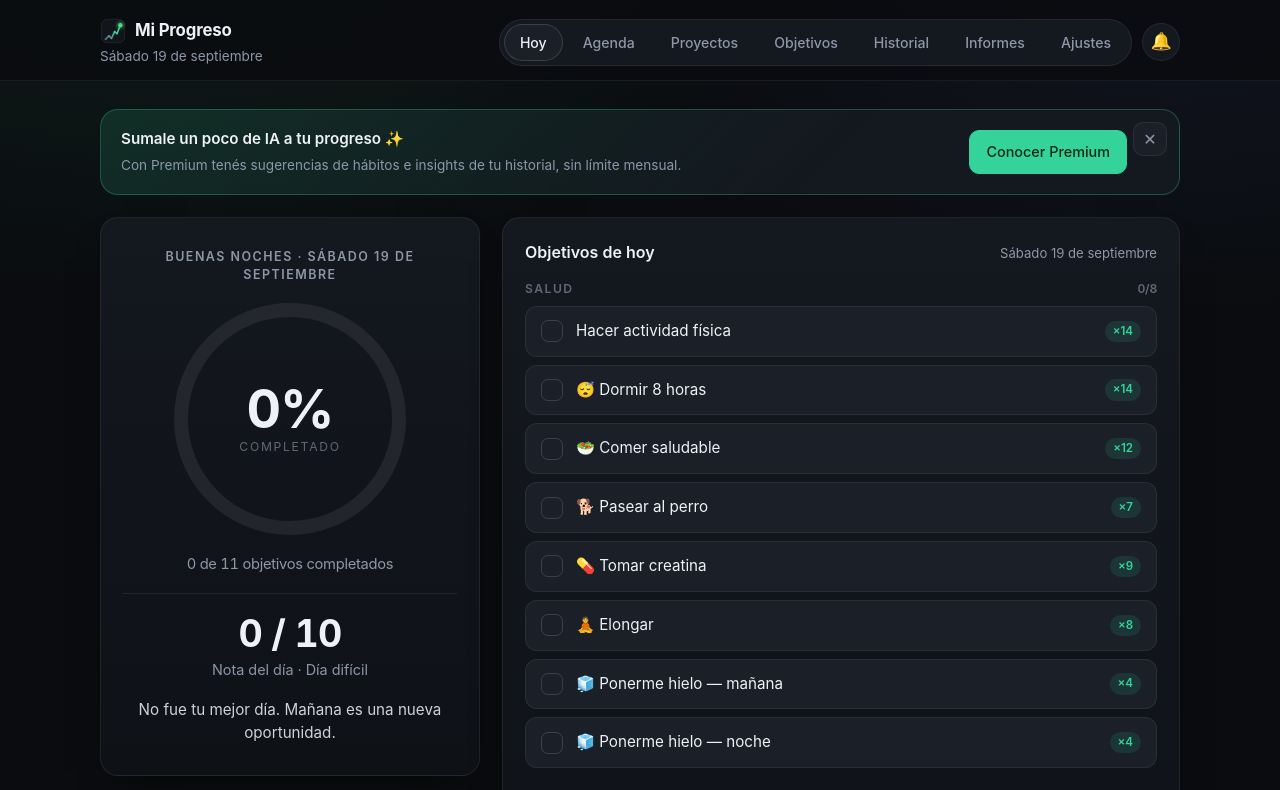
Test: Mi Progreso › Ajustes muestra el plan de la cuenta (Free por defecto sin Supabase)
Expected: the heading "Objetivos de hoy" is shown, [525, 240, 655, 264]
What coordinates should you click on to do the following:
click the button "Ajustes"
I would click on:
 (1086, 42)
Its box is [1045, 24, 1127, 61].
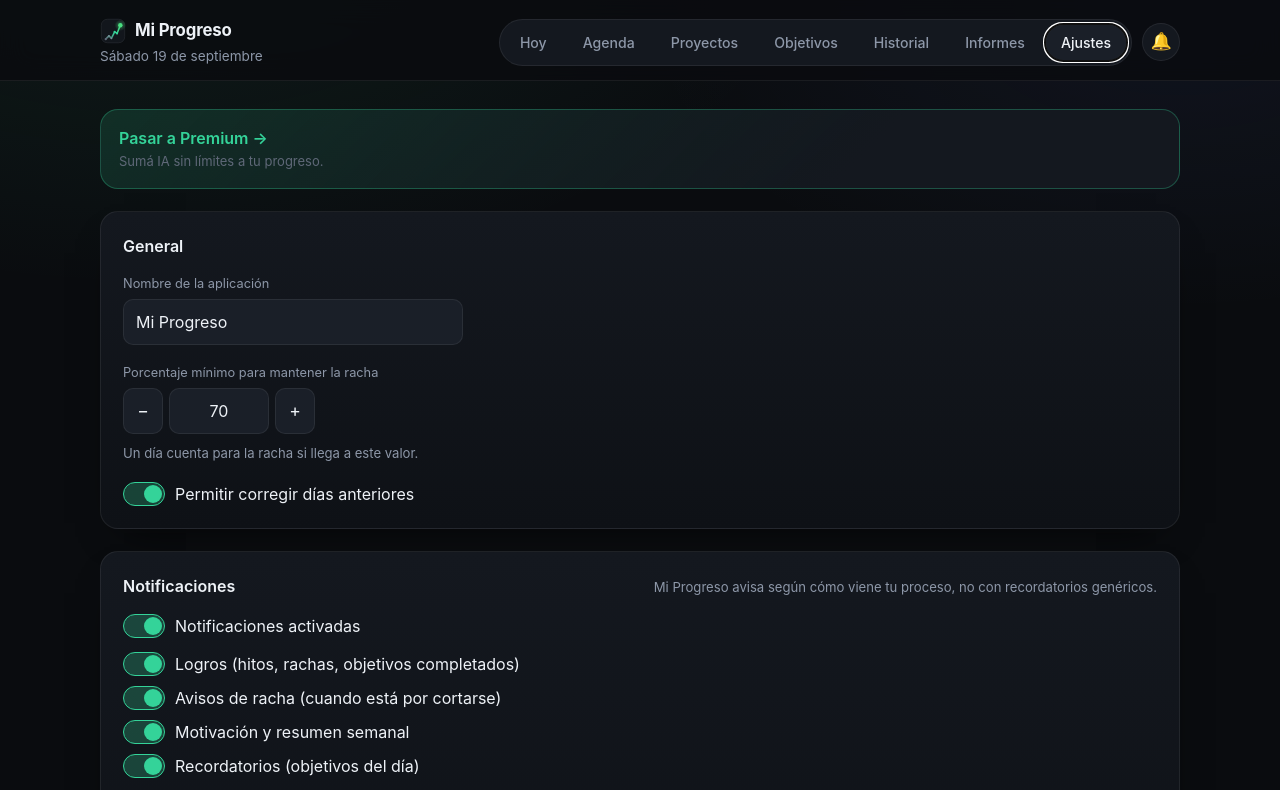
Expected: the text "Pasar a Premium →" is shown, [119, 128, 268, 148]
